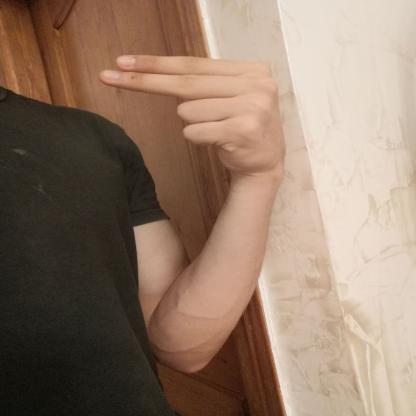AYN: (80, 41, 301, 184)
